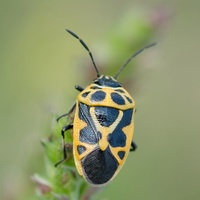insect: (59, 30, 154, 184)
